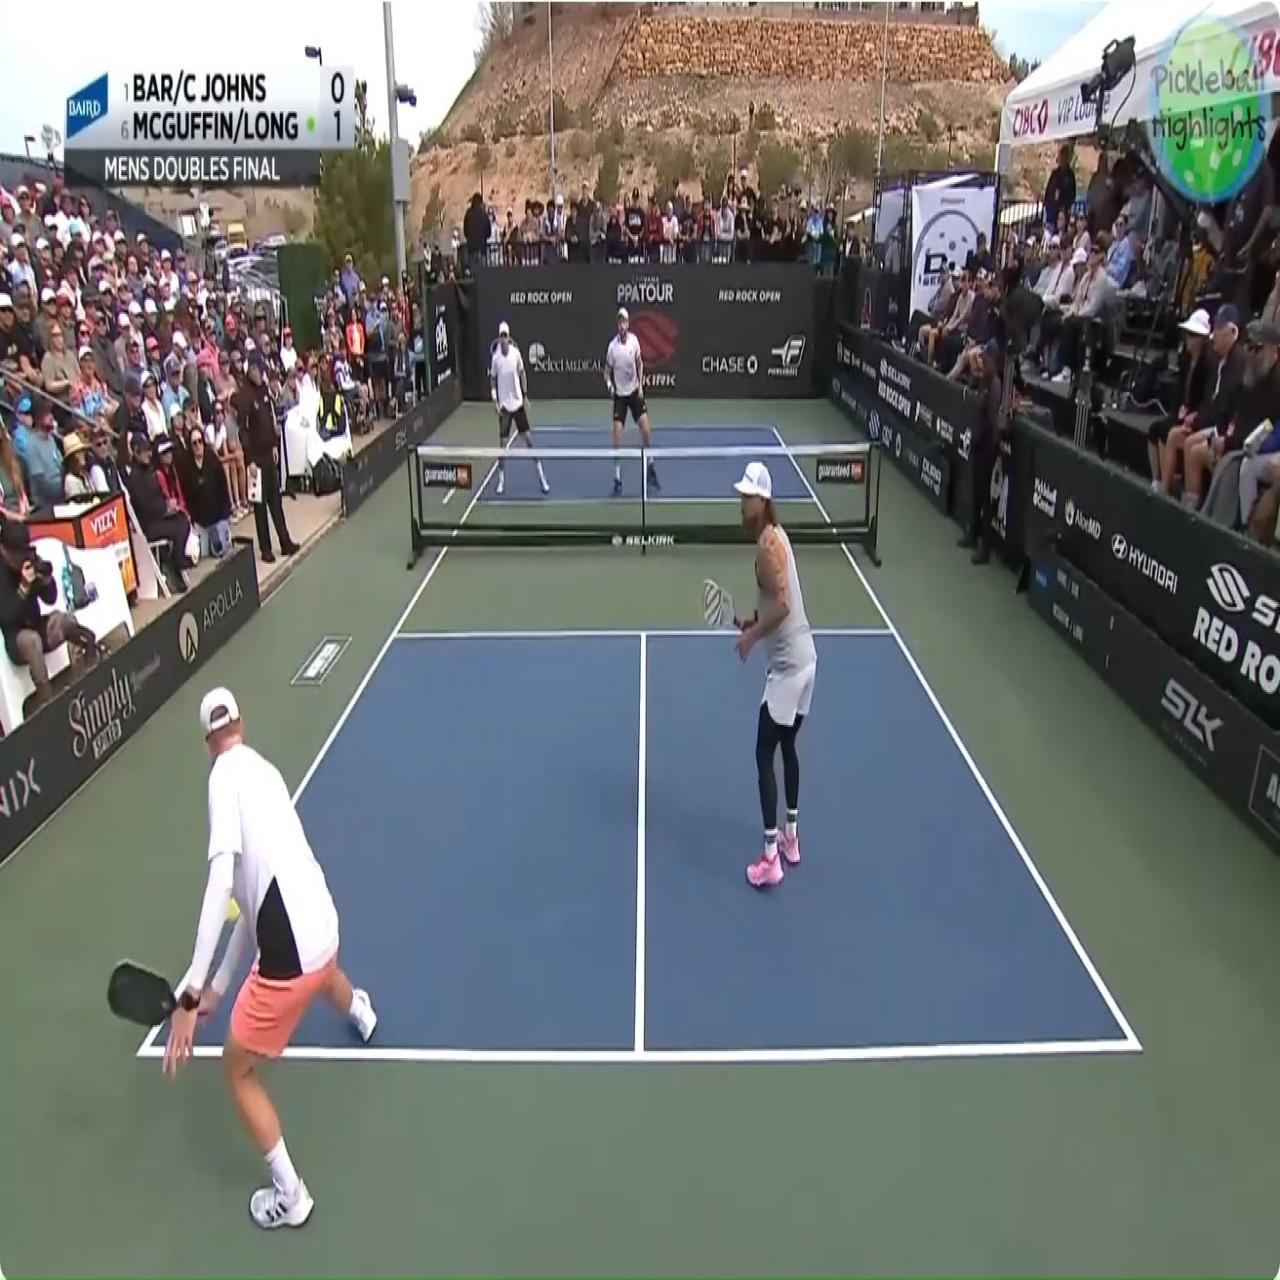pickleball: (225, 897, 239, 922)
